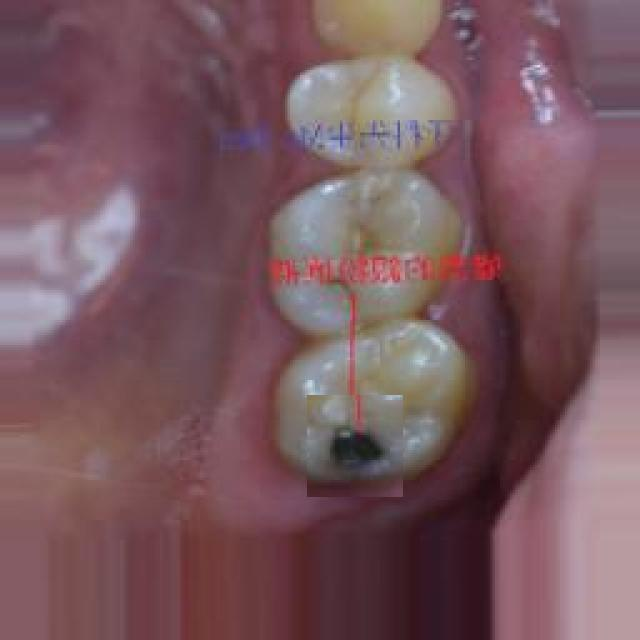caries: (307, 395, 403, 497)
